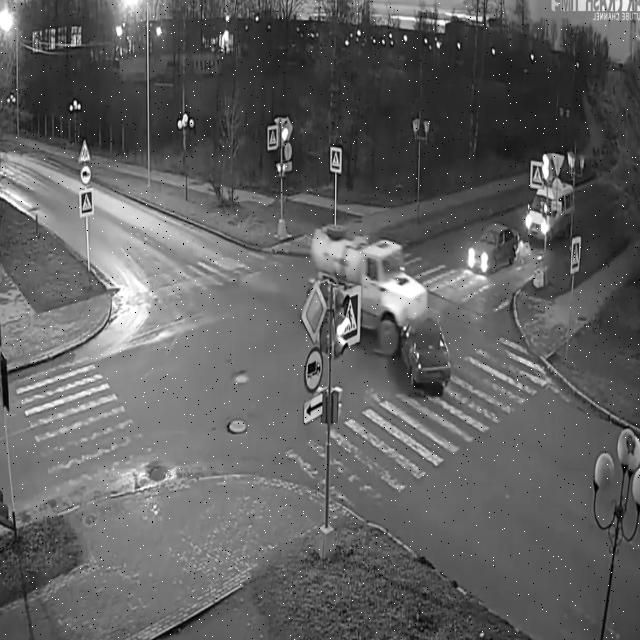accident: (292, 210, 465, 415)
